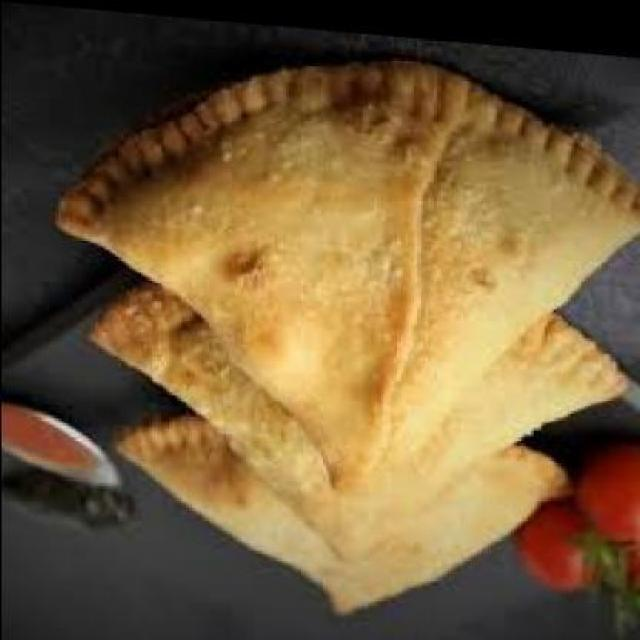samosa: (60, 28, 640, 508), (89, 248, 622, 575), (115, 400, 574, 623)
